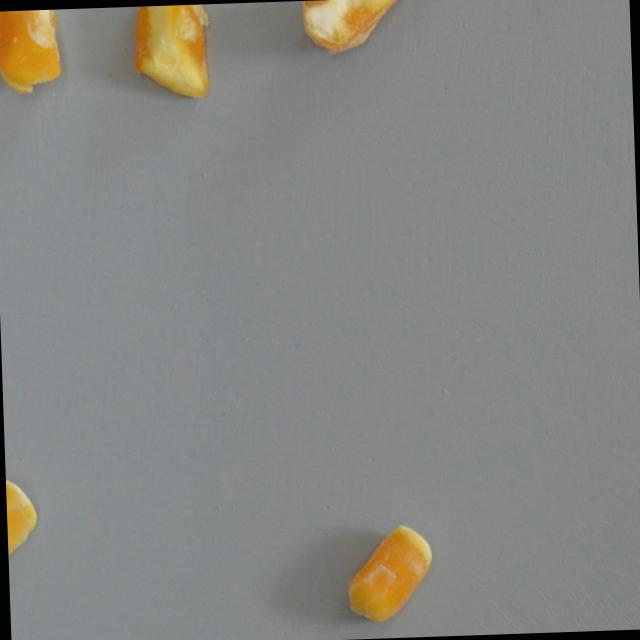estandar: (0, 9, 61, 95)
no_canjicado: (5, 473, 38, 579)
pelicula: (341, 521, 434, 623), (131, 4, 215, 102), (299, 0, 407, 56)
